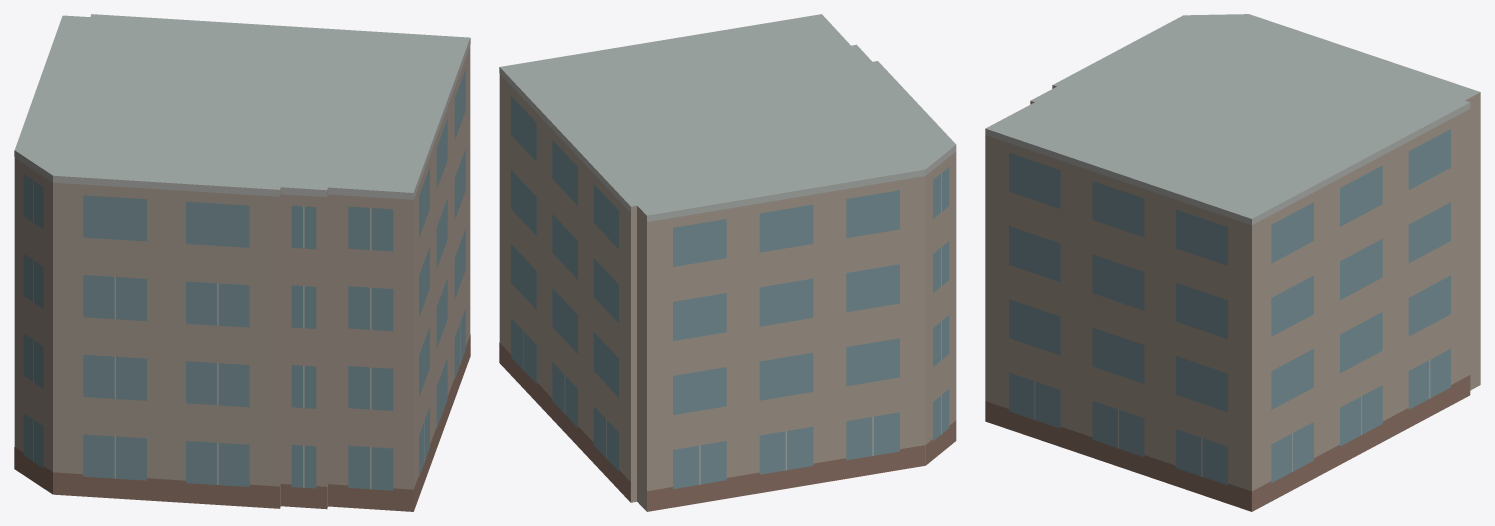
File: survey-upis-32708681.glb
3 renders of one model, left to right at view 1: azimuth 30°, elevation 25°; view 2: azimuth 150°, elevation 25°; view 3: azimuth 270°, elevation 25°, orthographic. The views are drawn at different scales.
Parts seen in each view (by area): view 1: survey-upis-32708681.tmp; view 2: survey-upis-32708681.tmp; view 3: survey-upis-32708681.tmp.
Part boxes in pixels (x1,y1,x2,y2): survey-upis-32708681.tmp: (14,14,470,511); survey-upis-32708681.tmp: (499,14,956,511); survey-upis-32708681.tmp: (985,14,1480,511).
Bounding box in the file's own units: 16.82 × 11.2 × 17.18.
